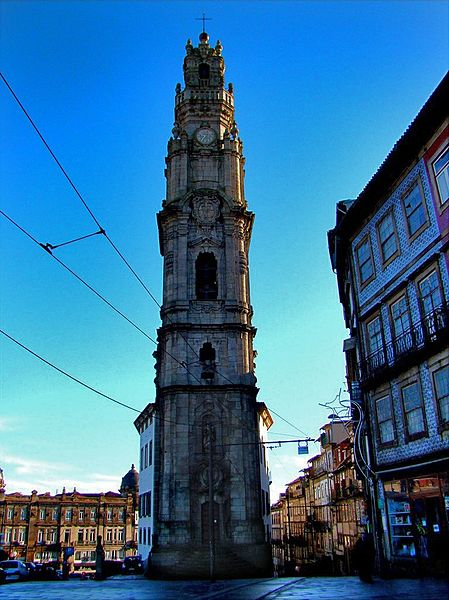clerigos: (151, 12, 265, 547)
